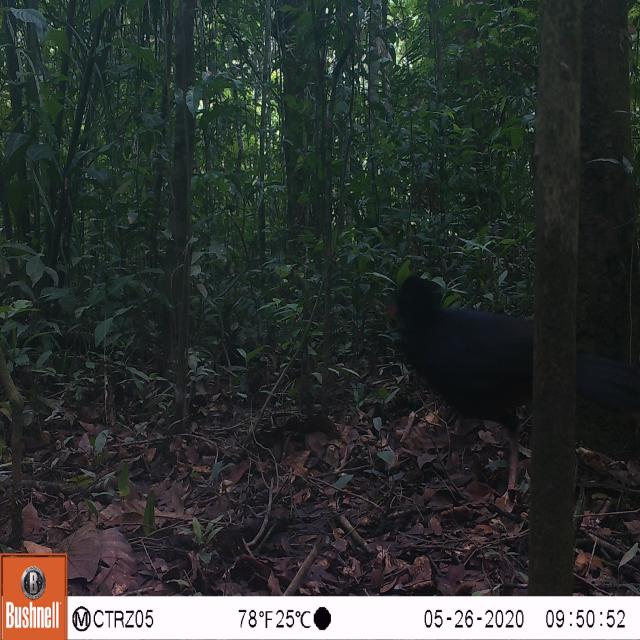Salvins Curassow: (371, 252, 640, 506)
